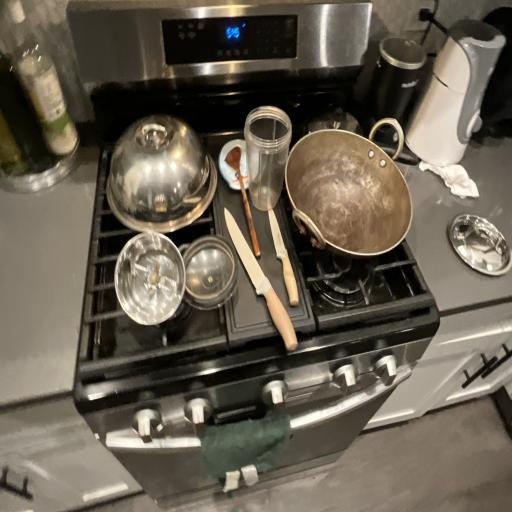Pan: (278, 116, 414, 280), (102, 106, 224, 229)
Stove: (68, 81, 439, 417)
knife: (218, 205, 306, 350), (262, 197, 311, 316)
